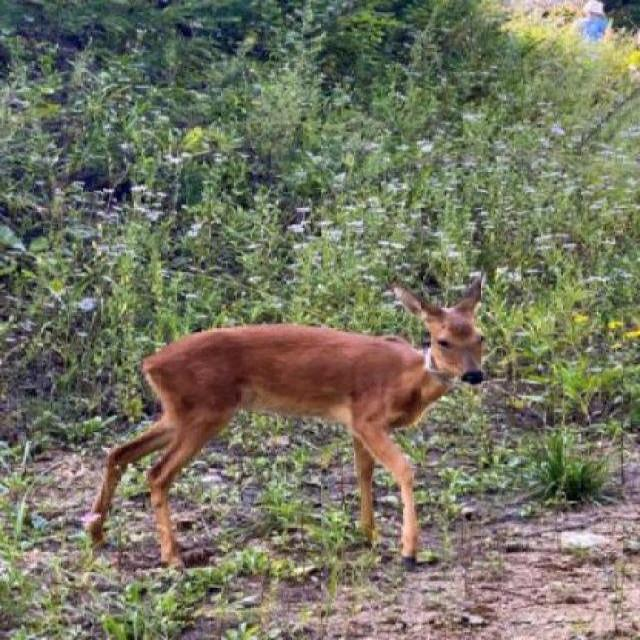deer: (71, 265, 498, 572)
